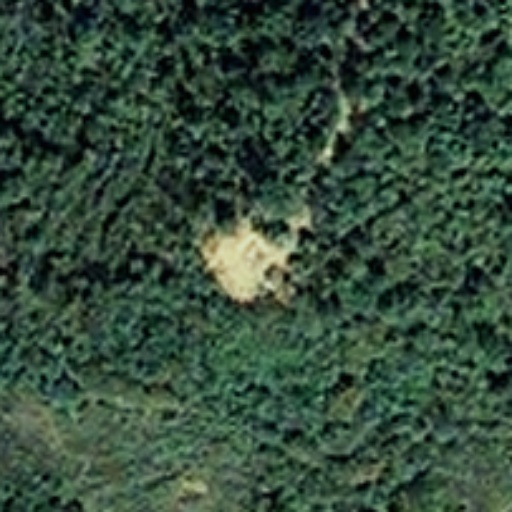landslide: (194, 212, 282, 304)
